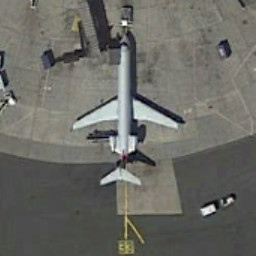Airplane: (70, 23, 182, 190)
